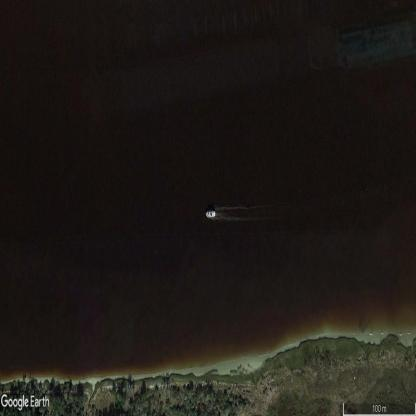ship: (206, 211, 216, 218)
